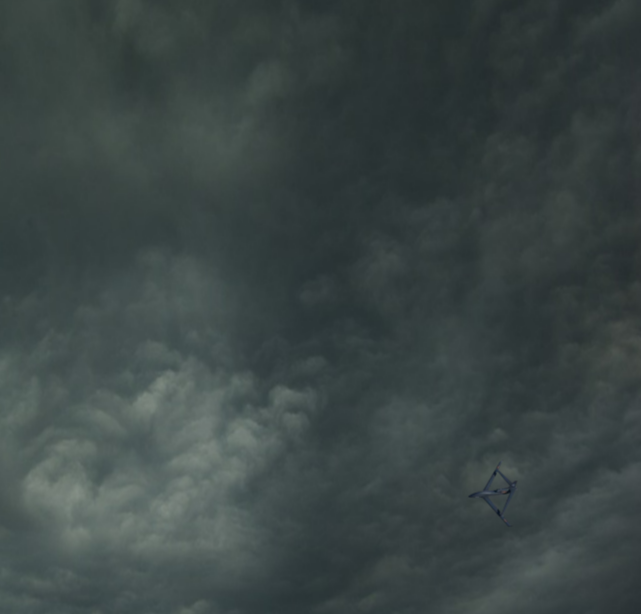military drone: (467, 460, 518, 527)
